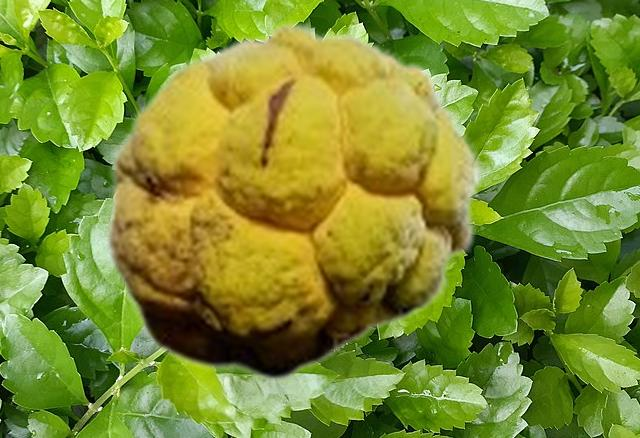atis: (102, 20, 482, 381)
